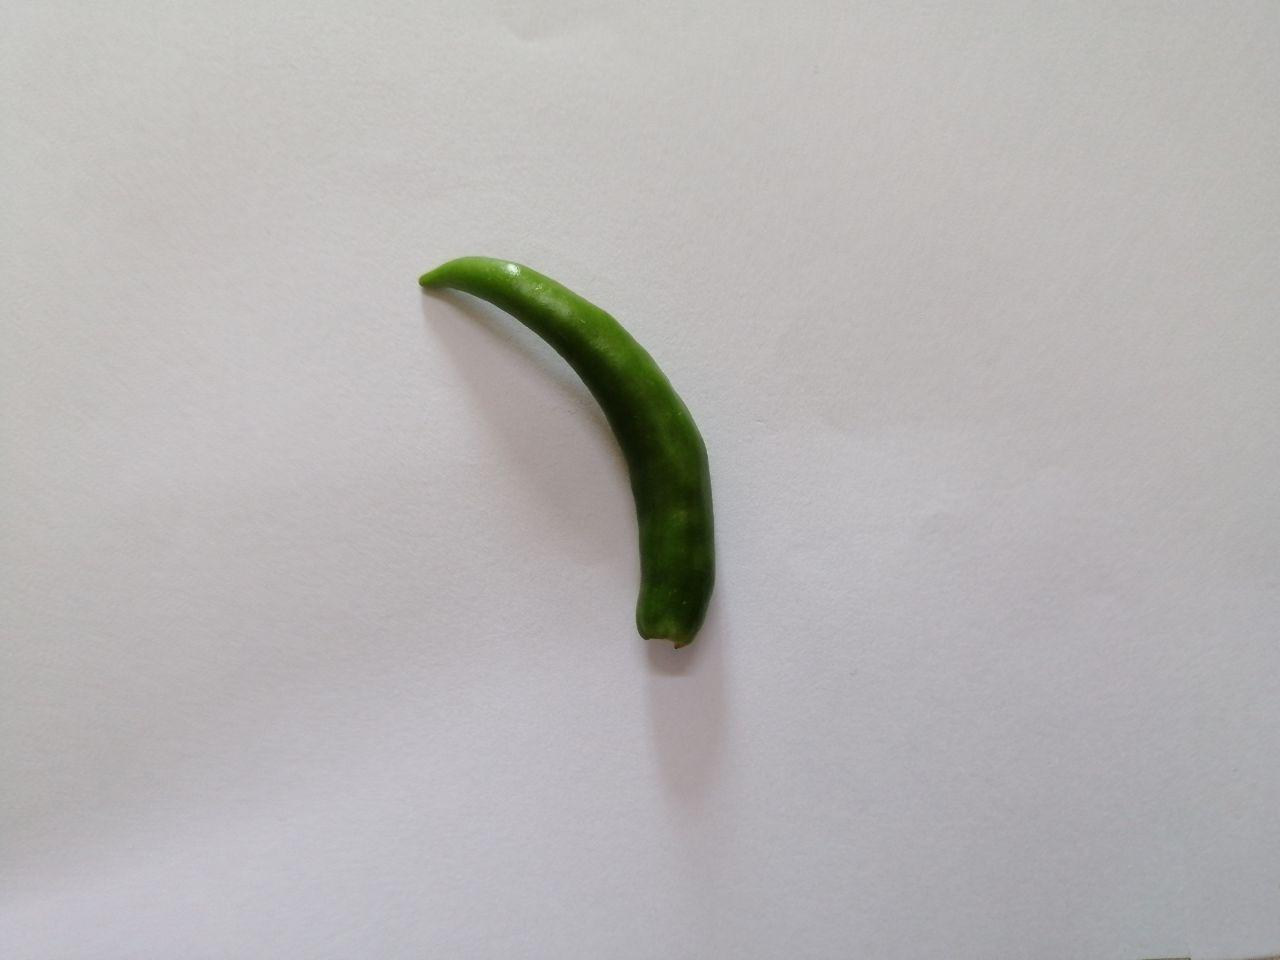lada hijau: (410, 240, 749, 684)
